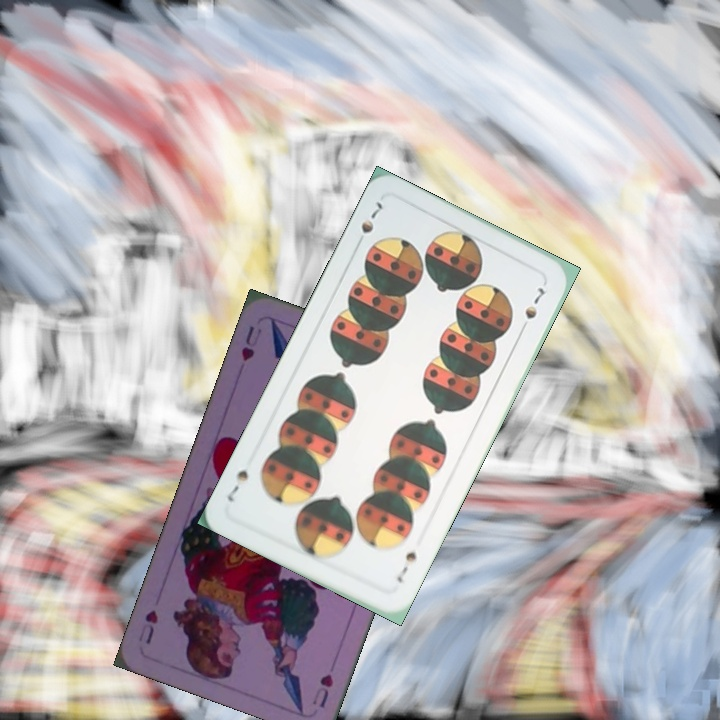HU: (308, 669, 336, 711), (237, 322, 257, 364)
S7: (357, 197, 386, 236), (392, 547, 419, 586)
